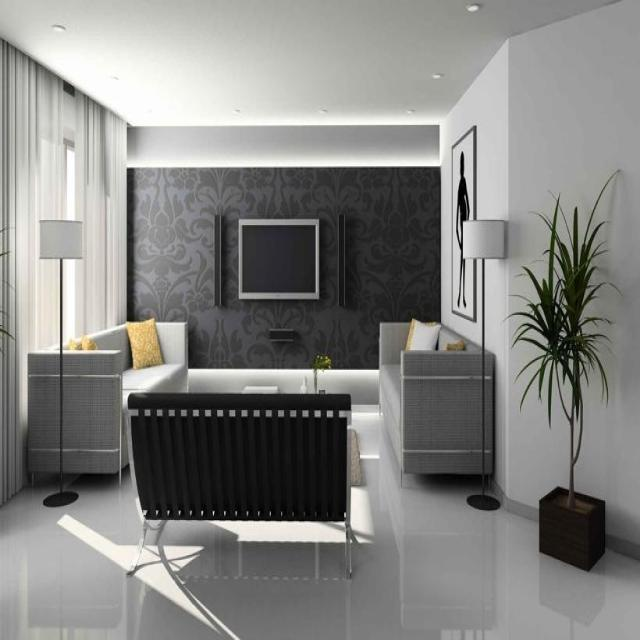E-waste: (223, 189, 347, 340)
